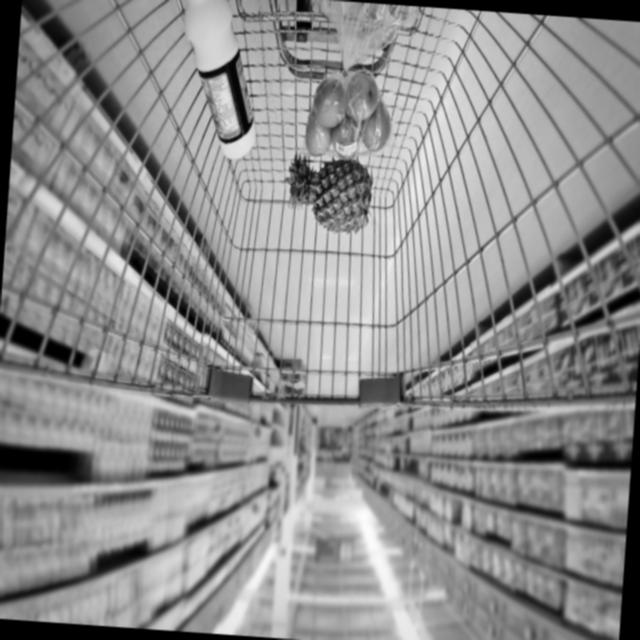apple: (304, 65, 396, 163)
milk: (173, 0, 266, 164)
pineapple: (279, 152, 376, 238)
